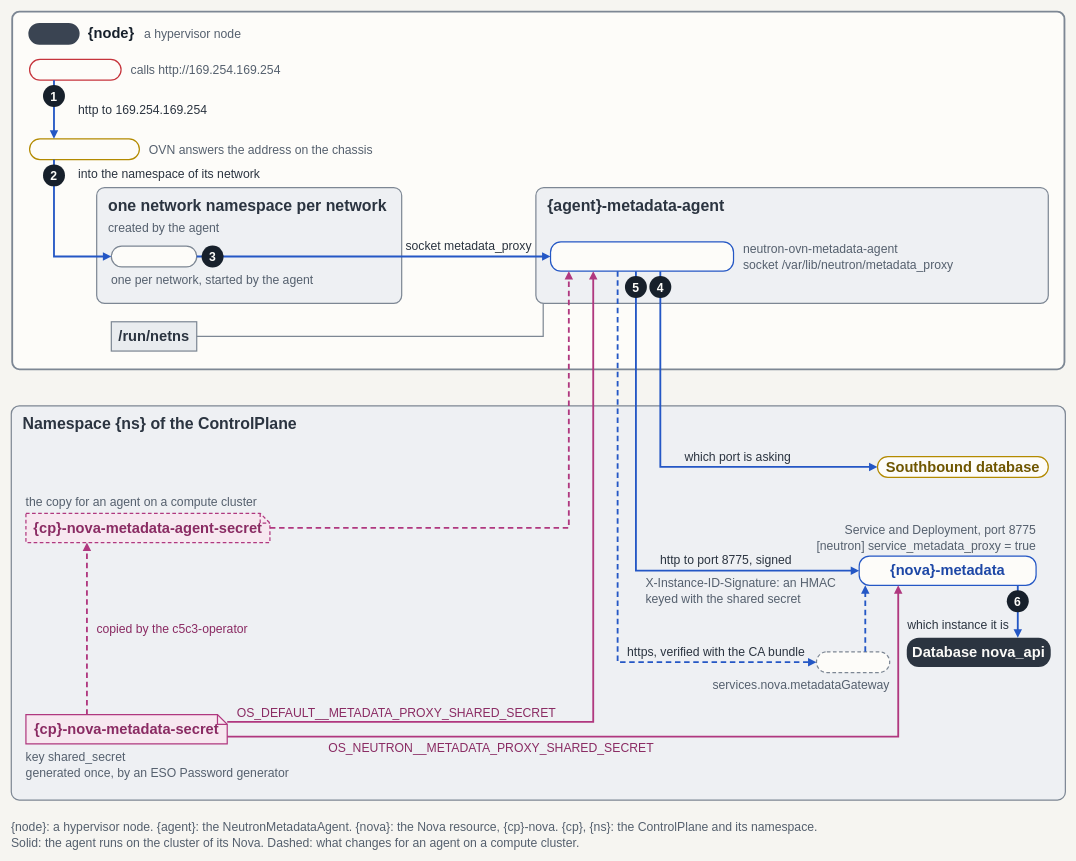
The diagram is 1076 pixels wide and 861 high, and some of its shapes have lost their labels. Here are the shapes that lost their labels. From the top down, the centre of each, then its label:
(53,34): node
(75,70): instance
(84,149): Open vSwitch
(153,256): haproxy
(642,256): metadata-agent
(853,662): Gateway
